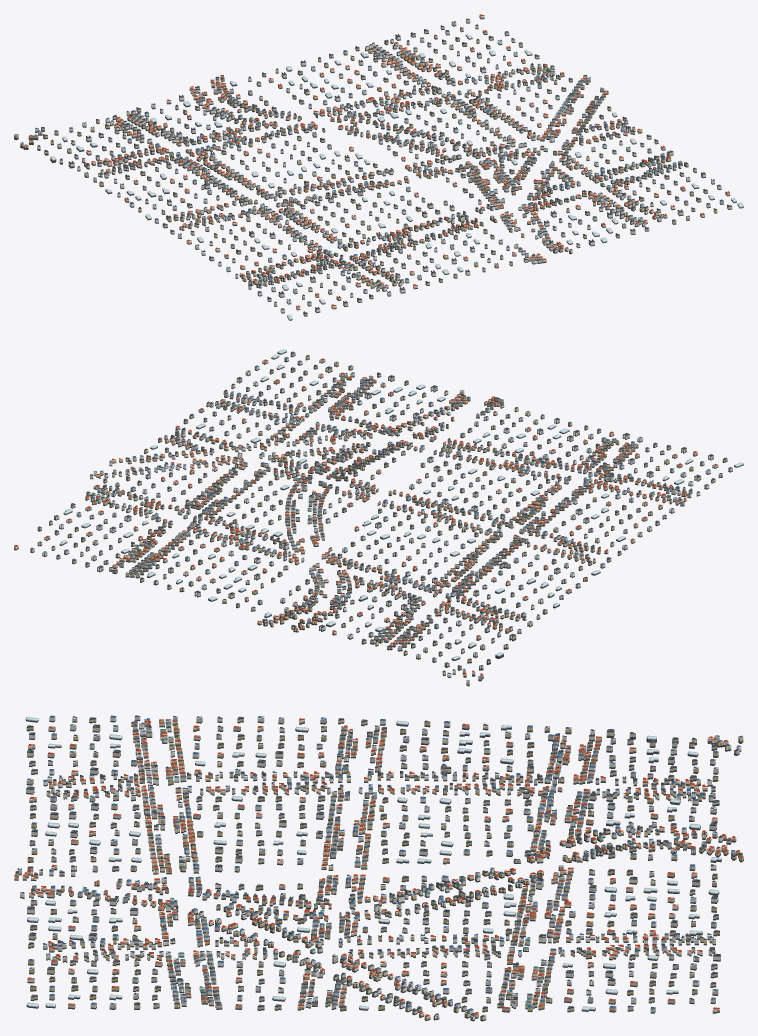
The model's file is osm_buildings_T_E00_S03.glb.
3 renders of one model, top to bottom at view 1: azimuth 30°, elevation 25°; view 2: azimuth 150°, elevation 25°; view 3: azimuth 270°, elevation 25°, orthographic. The views are drawn at different scales.
Visible parts, largest first — view 1: OSM_T_E00_S03_foundation, OSM_T_E00_S03_wall_cream_stucco, OSM_T_E00_S03_wall_french_ochre, OSM_T_E00_S03_roof_mansard_slate, OSM_T_E00_S03_roof_terracotta, OSM_T_E00_S03_wall_warm_white, OSM_T_E00_S03_wall_pastel_sand, OSM_T_E00_S03_roof_alpine_blue, OSM_T_E00_S03_greenhouse_blend, OSM_T_E00_S03_roof_mansard_deck, OSM_T_E00_S03_balcony_railing; view 2: OSM_T_E00_S03_foundation, OSM_T_E00_S03_wall_cream_stucco, OSM_T_E00_S03_wall_french_ochre, OSM_T_E00_S03_roof_mansard_slate, OSM_T_E00_S03_wall_warm_white, OSM_T_E00_S03_roof_terracotta, OSM_T_E00_S03_wall_pastel_sand, OSM_T_E00_S03_roof_alpine_blue, OSM_T_E00_S03_greenhouse_blend, OSM_T_E00_S03_roof_mansard_deck, OSM_T_E00_S03_balcony_railing; view 3: OSM_T_E00_S03_foundation, OSM_T_E00_S03_wall_cream_stucco, OSM_T_E00_S03_wall_french_ochre, OSM_T_E00_S03_roof_mansard_slate, OSM_T_E00_S03_roof_terracotta, OSM_T_E00_S03_wall_warm_white, OSM_T_E00_S03_roof_alpine_blue, OSM_T_E00_S03_wall_pastel_sand, OSM_T_E00_S03_greenhouse_blend, OSM_T_E00_S03_roof_mansard_deck, OSM_T_E00_S03_balcony_railing, OSM_T_E00_S03_glass_blend_85.
Boxes of the visible parts, x1,y1,x2,y2 form: OSM_T_E00_S03_foundation: (14,17,743,320); OSM_T_E00_S03_wall_cream_stucco: (23,15,732,308); OSM_T_E00_S03_wall_french_ochre: (14,28,717,315); OSM_T_E00_S03_roof_mansard_slate: (38,24,731,313); OSM_T_E00_S03_roof_terracotta: (24,14,729,307); OSM_T_E00_S03_wall_warm_white: (35,30,721,312); OSM_T_E00_S03_wall_pastel_sand: (20,22,723,305); OSM_T_E00_S03_roof_alpine_blue: (14,18,723,309); OSM_T_E00_S03_greenhouse_blend: (50,34,743,319); OSM_T_E00_S03_roof_mansard_deck: (44,25,731,312); OSM_T_E00_S03_balcony_railing: (45,31,726,310); OSM_T_E00_S03_foundation: (14,351,743,686); OSM_T_E00_S03_wall_cream_stucco: (14,353,715,677); OSM_T_E00_S03_wall_french_ochre: (51,356,727,684); OSM_T_E00_S03_roof_mansard_slate: (38,352,727,672); OSM_T_E00_S03_wall_warm_white: (59,359,732,676); OSM_T_E00_S03_roof_terracotta: (14,358,717,675); OSM_T_E00_S03_wall_pastel_sand: (37,358,722,679); OSM_T_E00_S03_roof_alpine_blue: (30,357,732,681); OSM_T_E00_S03_greenhouse_blend: (60,349,743,659); OSM_T_E00_S03_roof_mansard_deck: (55,351,726,666); OSM_T_E00_S03_balcony_railing: (48,360,726,661); OSM_T_E00_S03_foundation: (14,719,743,1021); OSM_T_E00_S03_wall_cream_stucco: (18,717,731,1020); OSM_T_E00_S03_wall_french_ochre: (14,720,743,1017); OSM_T_E00_S03_roof_mansard_slate: (15,715,742,1016); OSM_T_E00_S03_roof_terracotta: (14,718,743,1016); OSM_T_E00_S03_wall_warm_white: (26,716,741,1019); OSM_T_E00_S03_roof_alpine_blue: (17,715,742,1016); OSM_T_E00_S03_wall_pastel_sand: (15,717,739,1018); OSM_T_E00_S03_greenhouse_blend: (25,717,721,1010); OSM_T_E00_S03_roof_mansard_deck: (27,716,741,1010); OSM_T_E00_S03_balcony_railing: (32,719,743,1018); OSM_T_E00_S03_glass_blend_85: (43,718,734,1019).
Size of the model in its own units: 1953 by 98.07 by 1977.
